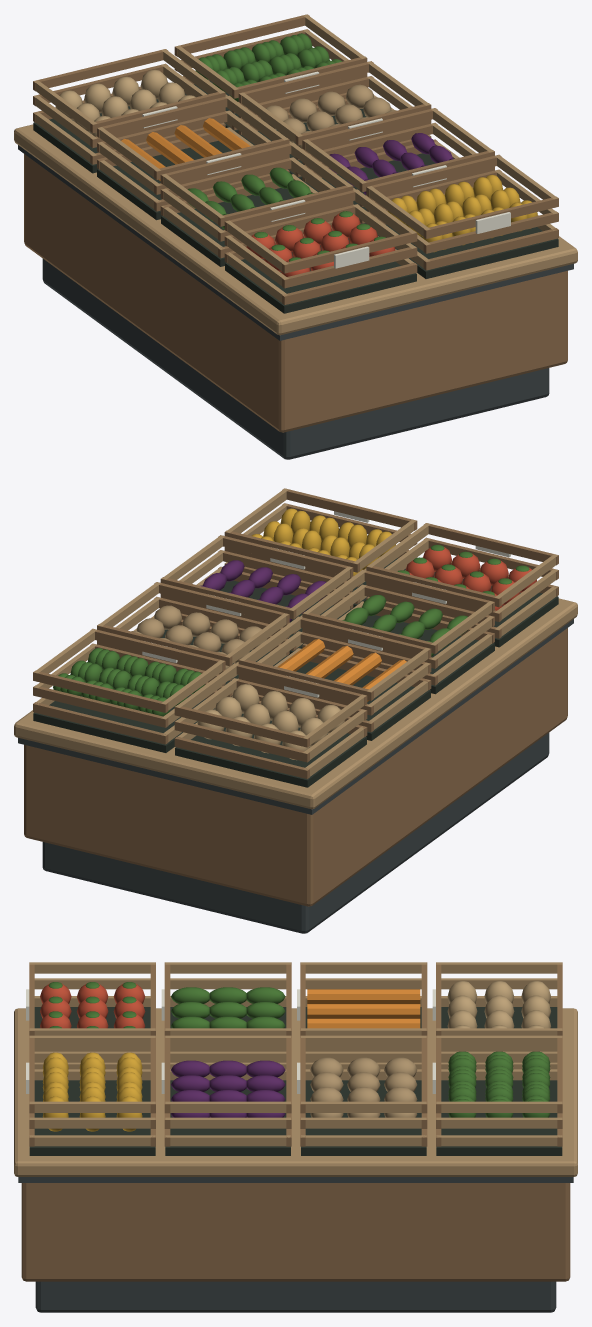
Rendered from vegetables.glb.
3 views of the same model, one above another, from view 1: azimuth 30°, elevation 25°; view 2: azimuth 150°, elevation 25°; view 3: azimuth 270°, elevation 25° (orthographic). The views are drawn at different scales.
Visible parts, largest first — view 1: vegetables_fixture_Oiled warm oak, vegetables_fixture_Crate end grain, vegetables_fixture_Powder-coated graphite, vegetables_fixture_Crate liner, vegetables_detail_Leaf green, vegetables_detail_pepper, vegetables_detail_onion, vegetables_detail_tomato, vegetables_detail_potato, vegetables_detail_carrot, vegetables_detail_Aubergine, vegetables_fixture_Ivory shelf label (+1 smaller); view 2: vegetables_fixture_Oiled warm oak, vegetables_fixture_Crate end grain, vegetables_fixture_Powder-coated graphite, vegetables_fixture_Crate liner, vegetables_detail_Leaf green, vegetables_detail_onion, vegetables_detail_pepper, vegetables_detail_potato, vegetables_detail_tomato, vegetables_detail_Aubergine, vegetables_detail_carrot, vegetables_fixture_Ivory shelf label (+1 smaller); view 3: vegetables_fixture_Crate end grain, vegetables_fixture_Oiled warm oak, vegetables_fixture_Powder-coated graphite, vegetables_fixture_Crate liner, vegetables_detail_Leaf green, vegetables_detail_Aubergine, vegetables_detail_carrot, vegetables_detail_potato, vegetables_detail_pepper, vegetables_detail_onion, vegetables_detail_tomato, vegetables_fixture_Ivory shelf label (+1 smaller).
Boxes of the visible parts, box(x1,y1,x2,y2) form: vegetables_fixture_Oiled warm oak: box(24, 14, 567, 432); vegetables_fixture_Crate end grain: box(14, 14, 577, 335); vegetables_fixture_Powder-coated graphite: box(18, 145, 573, 459); vegetables_fixture_Crate liner: box(33, 80, 558, 313); vegetables_detail_Leaf green: box(188, 33, 341, 229); vegetables_detail_pepper: box(387, 174, 537, 252); vegetables_detail_onion: box(55, 69, 195, 136); vegetables_detail_tomato: box(246, 213, 395, 276); vegetables_detail_potato: box(261, 84, 396, 148); vegetables_detail_carrot: box(121, 118, 250, 180); vegetables_detail_Aubergine: box(329, 133, 454, 194); vegetables_fixture_Ivory shelf label: box(142, 71, 510, 268); vegetables_fixture_Oiled warm oak: box(24, 488, 567, 906); vegetables_fixture_Crate end grain: box(14, 488, 577, 809); vegetables_fixture_Powder-coated graphite: box(18, 619, 573, 933); vegetables_fixture_Crate liner: box(33, 558, 558, 787); vegetables_detail_Leaf green: box(53, 595, 467, 716); vegetables_detail_onion: box(197, 684, 344, 760); vegetables_detail_pepper: box(251, 508, 395, 575); vegetables_detail_potato: box(131, 605, 266, 669); vegetables_detail_tomato: box(405, 547, 536, 610); vegetables_detail_Aubergine: box(200, 560, 326, 621); vegetables_detail_carrot: box(277, 639, 406, 701); vegetables_fixture_Ivory shelf label: box(142, 501, 510, 697); vegetables_fixture_Crate end grain: box(14, 962, 577, 1176); vegetables_fixture_Oiled warm oak: box(21, 962, 570, 1281); vegetables_fixture_Powder-coated graphite: box(18, 1177, 573, 1312); vegetables_fixture_Crate liner: box(29, 1007, 562, 1155); vegetables_detail_Leaf green: box(171, 987, 550, 1117); vegetables_detail_Aubergine: box(171, 1060, 285, 1117); vegetables_detail_carrot: box(307, 989, 420, 1028); vegetables_detail_potato: box(310, 1057, 417, 1117); vegetables_detail_pepper: box(42, 1052, 142, 1131); vegetables_detail_onion: box(447, 981, 550, 1028); vegetables_detail_tomato: box(40, 983, 145, 1028); vegetables_fixture_Ivory shelf label: box(26, 989, 435, 1093).
Bounding box in the file's own units: 1.7 × 1.08 × 2.6.
